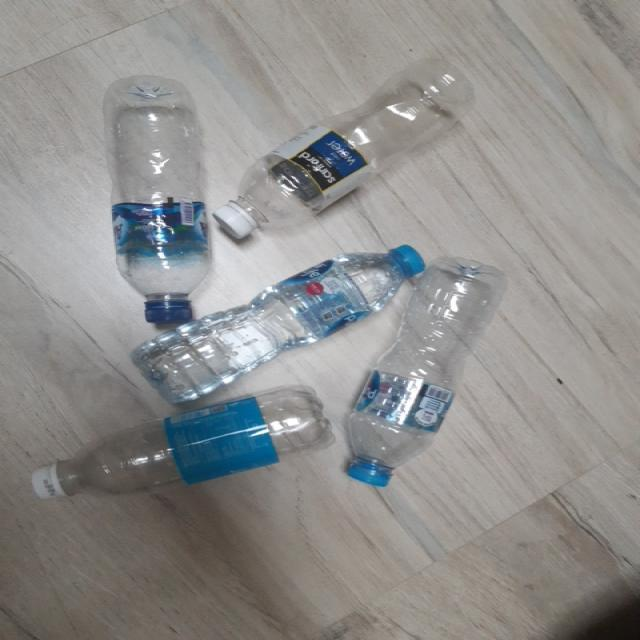PET Bottle: (116, 211, 448, 409), (212, 38, 493, 268), (322, 251, 525, 521), (20, 371, 337, 521), (92, 66, 215, 332)
